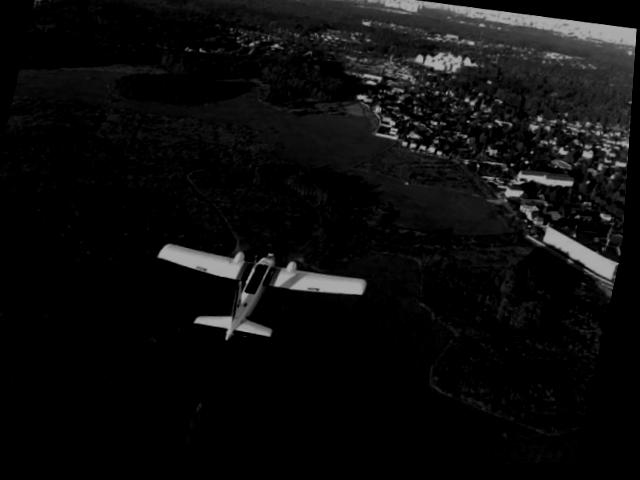hedef: (133, 230, 384, 372)
